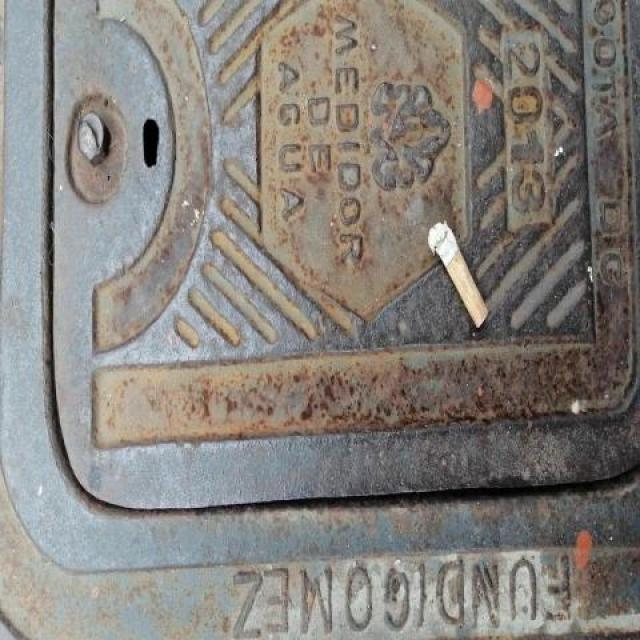non-organic waste: (424, 218, 492, 334)
